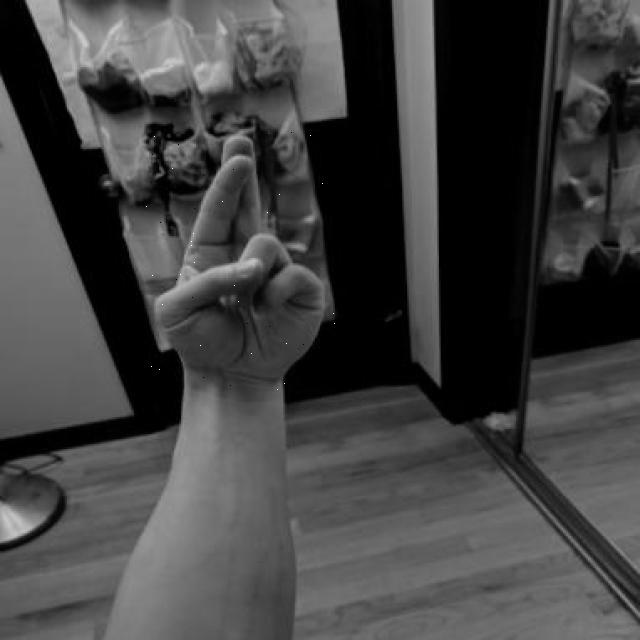R: (145, 128, 336, 390)
